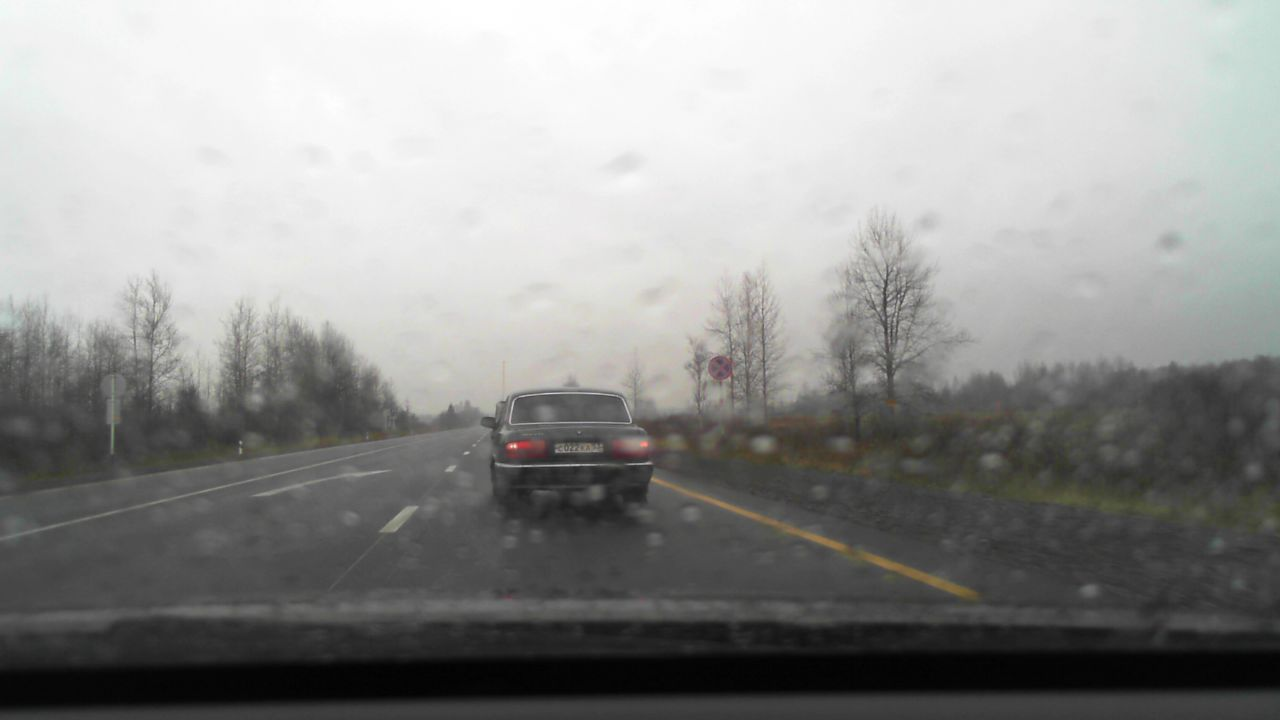No Parking: (708, 355, 732, 380)
